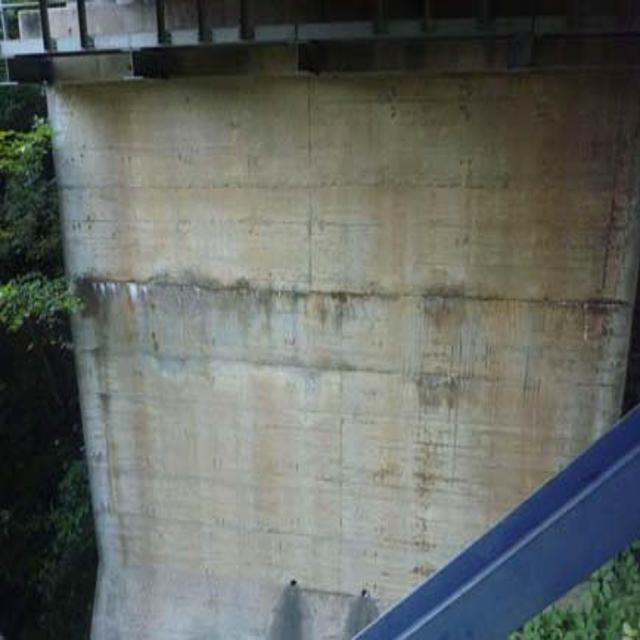leakage: (74, 252, 470, 354)
